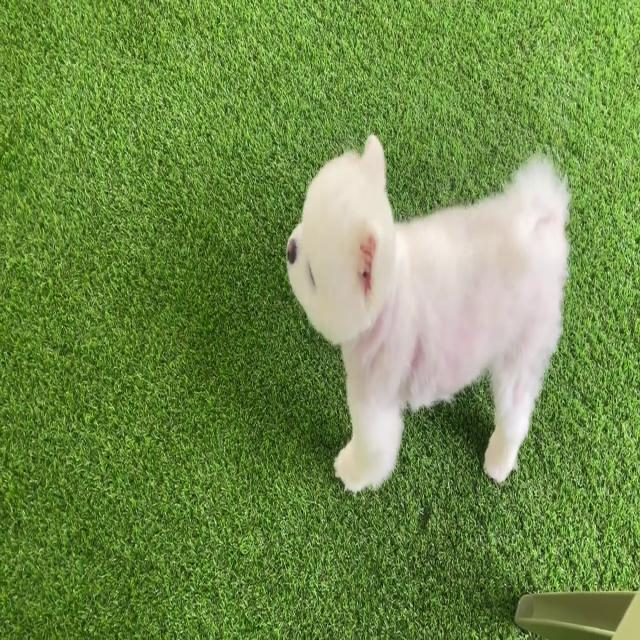Dog: (285, 131, 571, 484)
